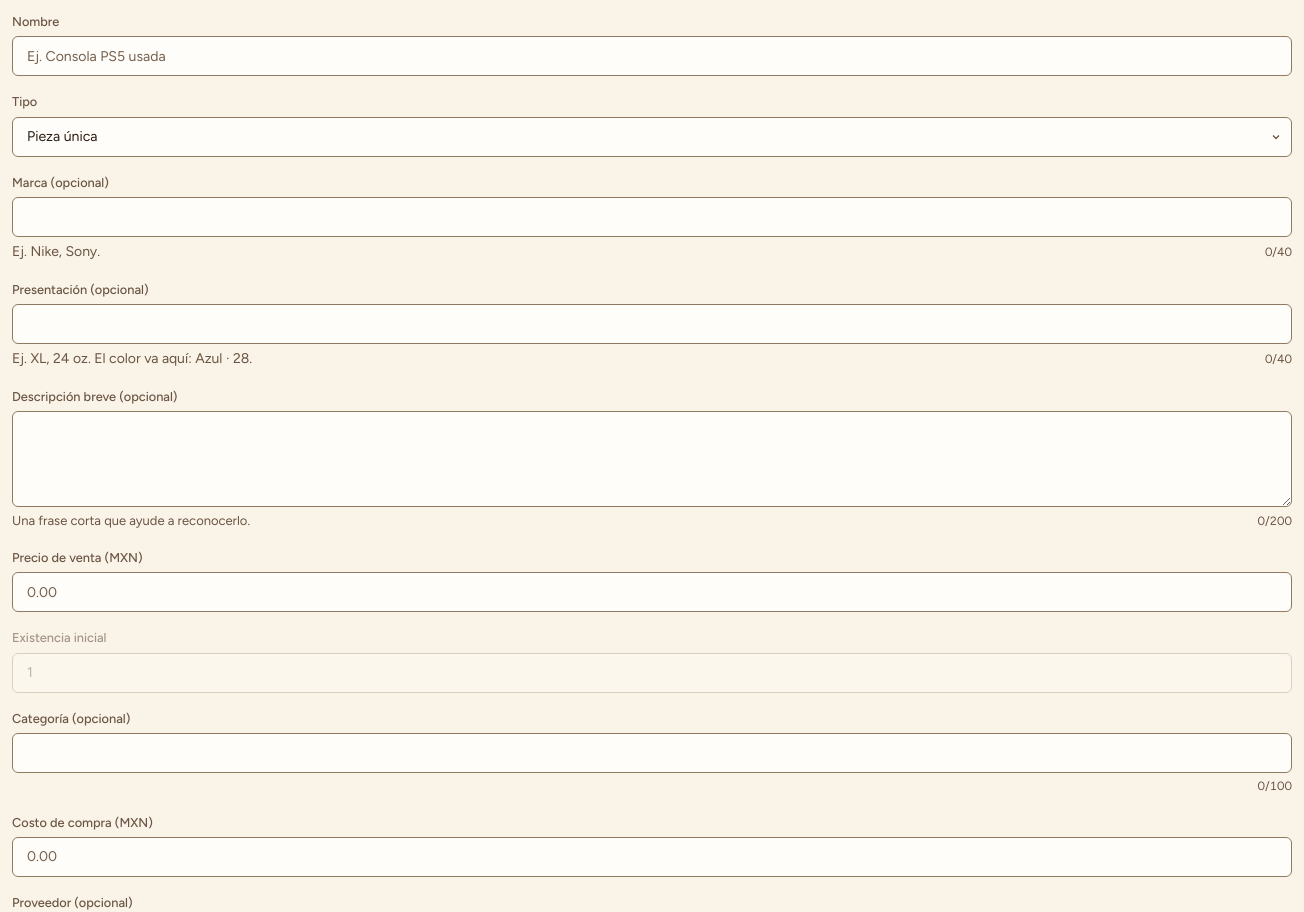
it: ProductForm — marca, presentación y descripción › el contador sigue lo que se escribe
The width and height of the screenshot is (1304, 912).
Type "Nike" into the field labelled "Marca (opcional)" at coordinates (652, 217), box [12,197,1292,237]
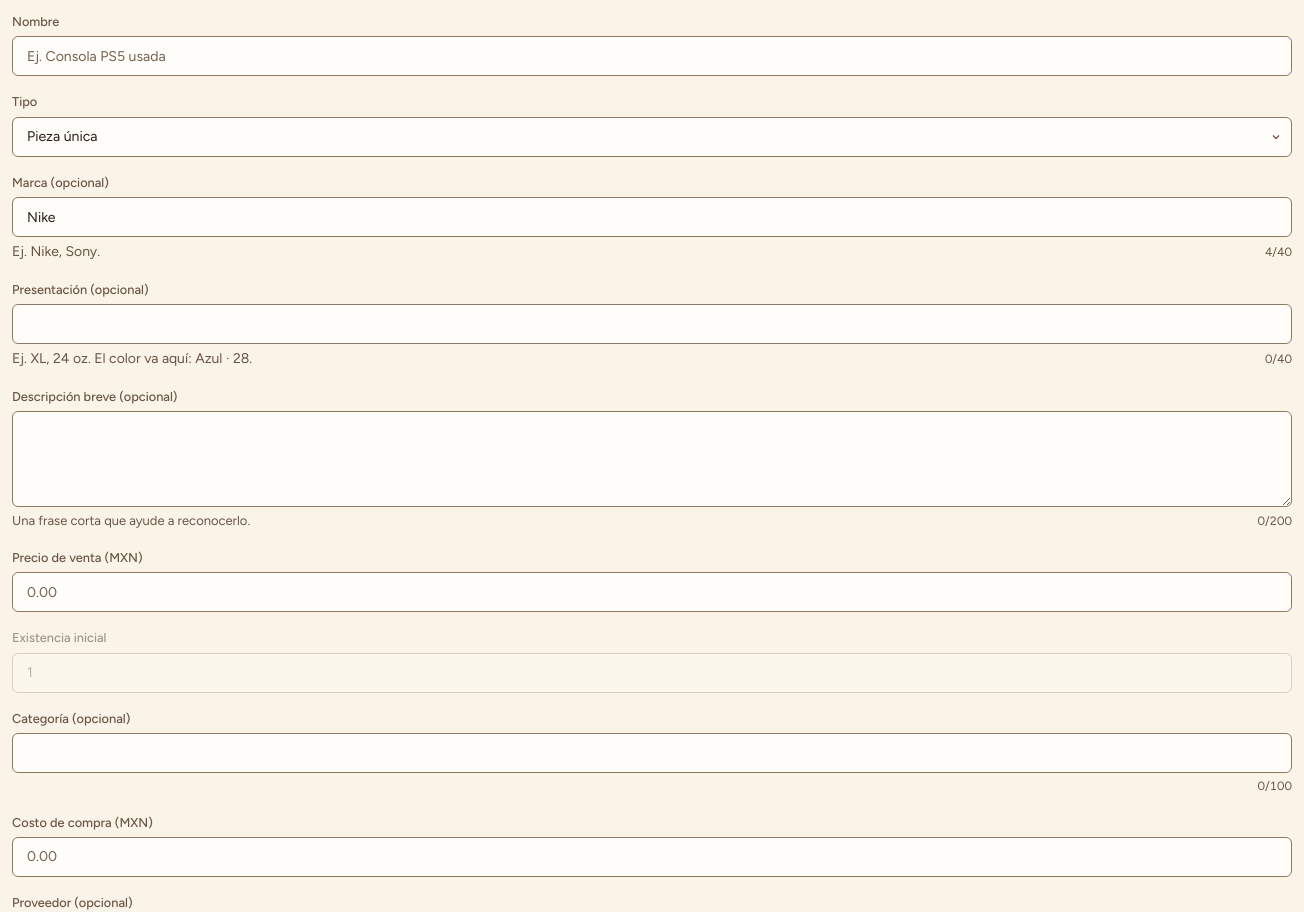
Expected: the text "4/40" is shown, [1265,245,1292,259]
